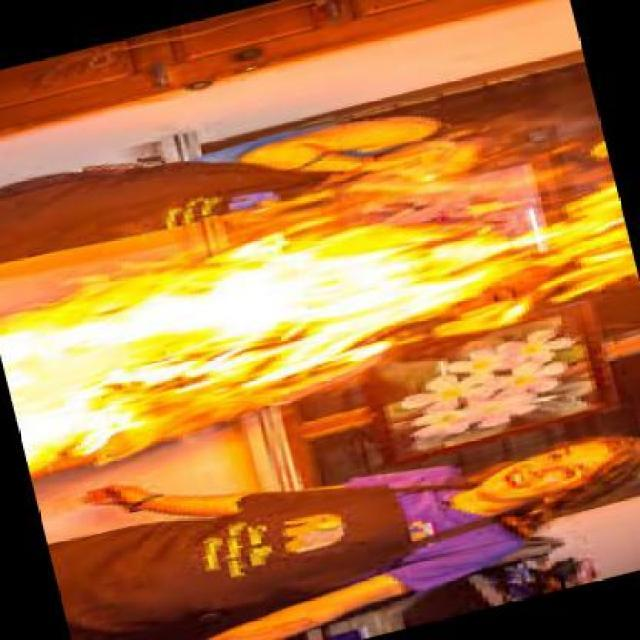Smoke: (3, 166, 628, 444)
